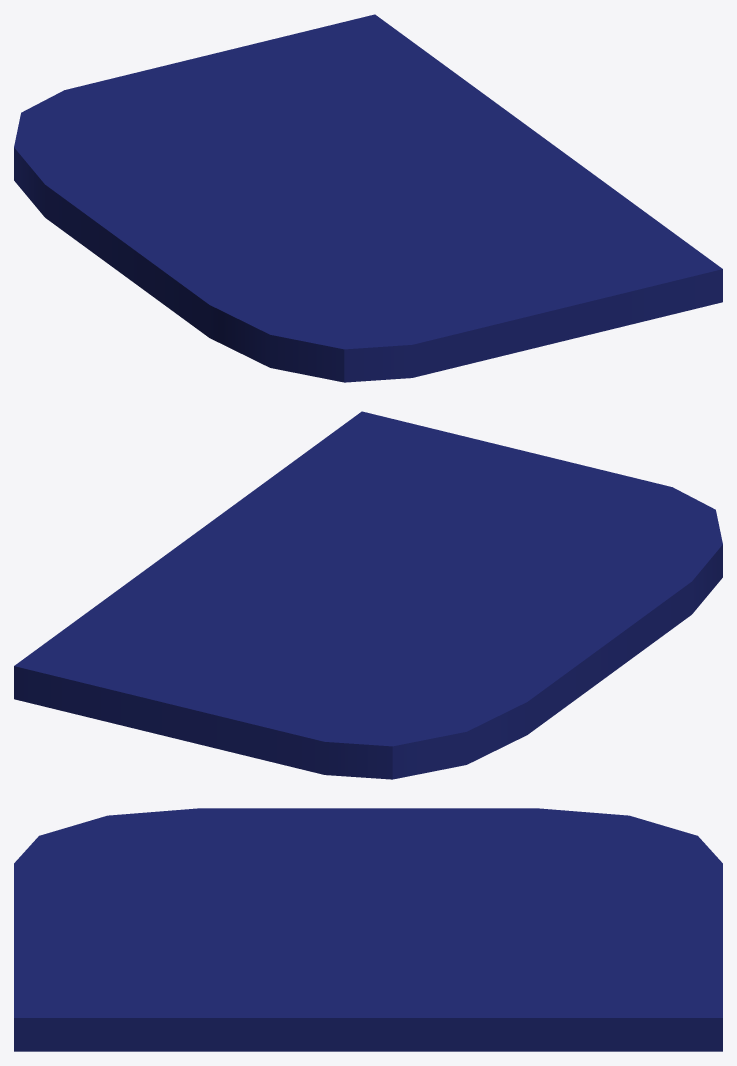
The model's file is Playground_Siding_FBX.fbx.
3 views of the same model, one above another, from view 1: azimuth 30°, elevation 25°; view 2: azimuth 150°, elevation 25°; view 3: azimuth 270°, elevation 25° (orthographic).
Visible parts, largest first — view 1: side; view 2: side; view 3: side.
Part boxes in pixels (<box>): side: <box>14,14,722,382</box>; side: <box>14,411,722,779</box>; side: <box>14,808,722,1051</box>.
Bounding box in the file's own units: 798 × 60 × 1140.
